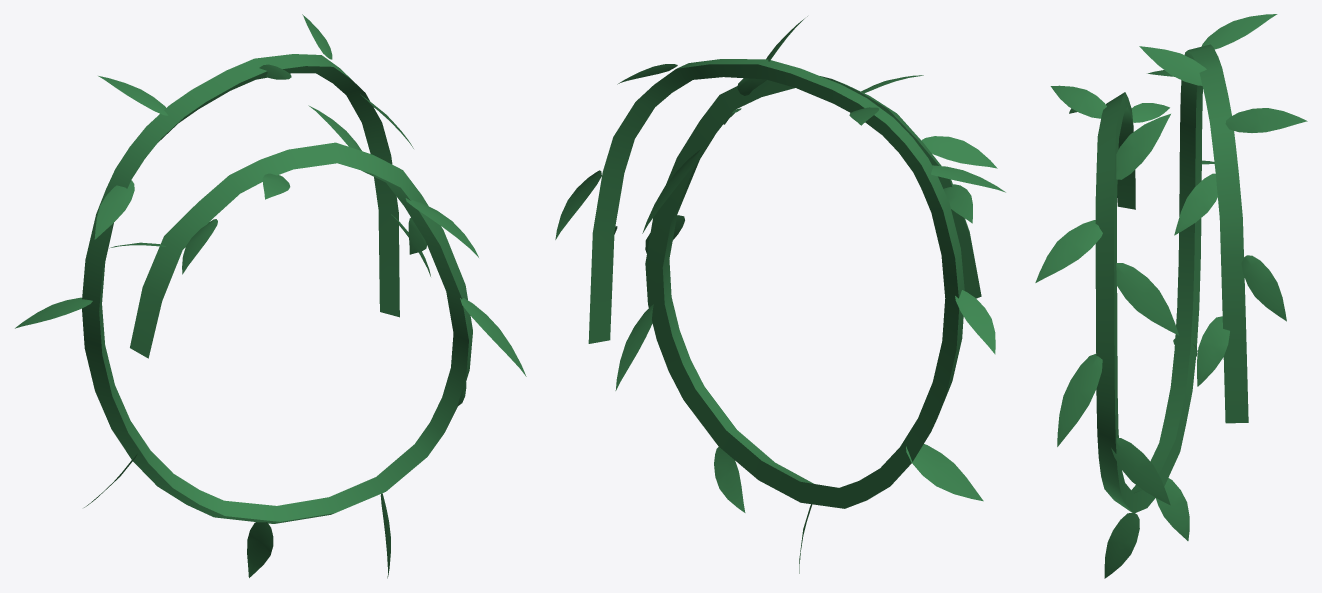
The model's file is vine_X_scanden_loop_big_angle.fbx.
The picture shows the model from 3 angles, left to right: view 1: azimuth 30°, elevation 25°; view 2: azimuth 150°, elevation 25°; view 3: azimuth 270°, elevation 25°; orthographic projection. The views are drawn at different scales.
Visible parts, largest first — view 1: vine_X_scanden_loop_big_angle_root, vine_scanden_A_leaf_A79, vine_scanden_A_leaf_A91, vine_scanden_A_leaf_A92, vine_scanden_A_leaf_A80, vine_scanden_A_leaf_A88, vine_scanden_A_leaf_A84, vine_scanden_A_leaf_A83; view 2: vine_X_scanden_loop_big_angle_root, vine_scanden_A_leaf_A81, vine_scanden_A_leaf_A83, vine_scanden_A_leaf_A, vine_scanden_A_leaf_A80, vine_scanden_A_leaf_A90, vine_scanden_A_leaf_A94, vine_scanden_A_leaf_A86, vine_scanden_A_leaf_A82, vine_scanden_A_leaf_A79; view 3: vine_X_scanden_loop_big_angle_root, vine_scanden_A_leaf_A82, vine_scanden_A_leaf_A92, vine_scanden_A_leaf_A88, vine_scanden_A_leaf_A90, vine_scanden_A_leaf_A93, vine_scanden_A_leaf_A94, vine_scanden_A_leaf_A87, vine_scanden_A_leaf_A, vine_scanden_A_leaf_A89, vine_scanden_A_leaf_A95, vine_scanden_A_leaf_A85 (+4 smaller).
Part boxes in pixels (bbox=[...]): vine_X_scanden_loop_big_angle_root: bbox=[82, 54, 472, 523]; vine_scanden_A_leaf_A79: bbox=[94, 180, 134, 239]; vine_scanden_A_leaf_A91: bbox=[247, 522, 273, 577]; vine_scanden_A_leaf_A92: bbox=[460, 298, 526, 376]; vine_scanden_A_leaf_A80: bbox=[15, 297, 92, 328]; vine_scanden_A_leaf_A88: bbox=[405, 198, 478, 257]; vine_scanden_A_leaf_A84: bbox=[98, 76, 167, 115]; vine_scanden_A_leaf_A83: bbox=[182, 219, 217, 274]; vine_X_scanden_loop_big_angle_root: bbox=[588, 59, 981, 508]; vine_scanden_A_leaf_A81: bbox=[906, 444, 983, 501]; vine_scanden_A_leaf_A83: bbox=[921, 136, 997, 168]; vine_scanden_A_leaf_A: bbox=[714, 446, 745, 512]; vine_scanden_A_leaf_A80: bbox=[955, 290, 995, 354]; vine_scanden_A_leaf_A90: bbox=[615, 304, 653, 390]; vine_scanden_A_leaf_A94: bbox=[555, 170, 601, 239]; vine_scanden_A_leaf_A86: bbox=[943, 184, 972, 223]; vine_scanden_A_leaf_A82: bbox=[642, 149, 700, 233]; vine_scanden_A_leaf_A79: bbox=[931, 165, 1005, 192]; vine_X_scanden_loop_big_angle_root: bbox=[1095, 44, 1248, 513]; vine_scanden_A_leaf_A82: bbox=[1116, 263, 1179, 335]; vine_scanden_A_leaf_A92: bbox=[1057, 354, 1102, 446]; vine_scanden_A_leaf_A88: bbox=[1035, 220, 1102, 282]; vine_scanden_A_leaf_A90: bbox=[1111, 438, 1170, 505]; vine_scanden_A_leaf_A93: bbox=[1116, 114, 1170, 179]; vine_scanden_A_leaf_A94: bbox=[1241, 255, 1286, 321]; vine_scanden_A_leaf_A87: bbox=[1225, 108, 1307, 132]; vine_scanden_A_leaf_A: bbox=[1104, 513, 1139, 578]; vine_scanden_A_leaf_A89: bbox=[1197, 316, 1229, 386]; vine_scanden_A_leaf_A95: bbox=[1174, 173, 1218, 235]; vine_scanden_A_leaf_A85: bbox=[1139, 46, 1206, 85].
Bounding box in the file's own units: 72.68 × 85.77 × 42.17.
